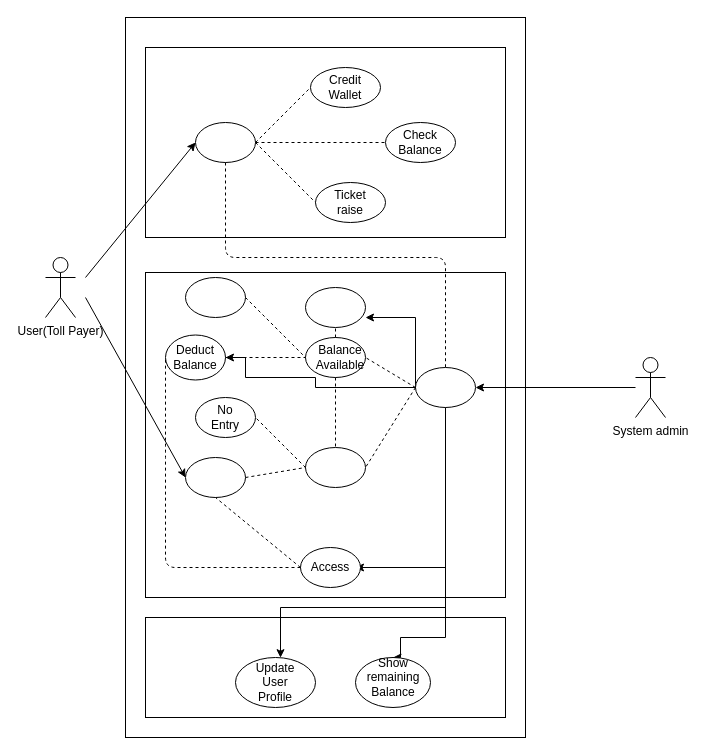
The diagram is 705 pixels wide and 755 high, and some of its shapes have lost their labels. Each missing label, with the centre of its shape:
"Allow Entry" goes at (x=215, y=297).
"car no." goes at (x=335, y=307).
"Control Panel" goes at (x=445, y=387).
"Low Balance" goes at (x=335, y=467).
"Manual Payment" goes at (x=215, y=477).
"User Login" goes at (x=225, y=142).
